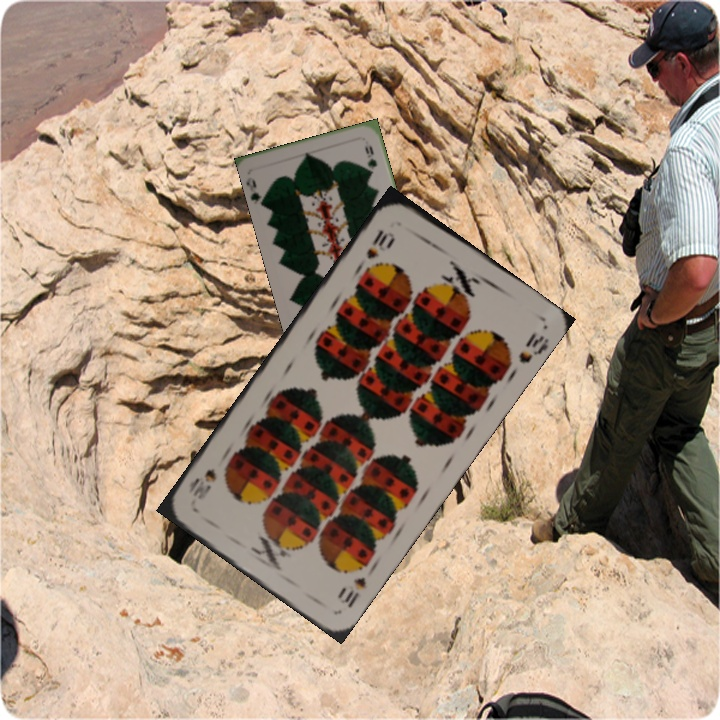G9: (243, 173, 268, 208)
S10: (333, 573, 369, 611), (362, 225, 396, 262)
